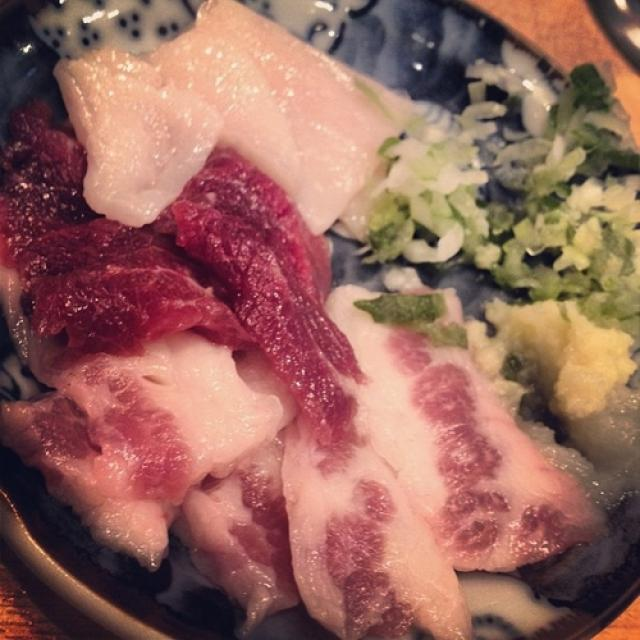刺身生食: (4, 8, 631, 631)
